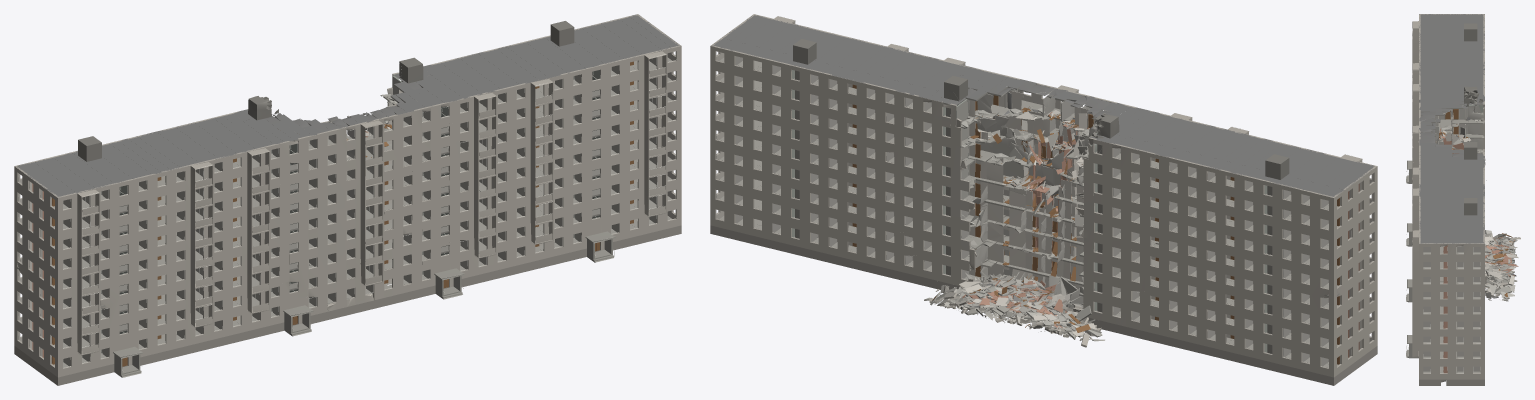
Rendered from b1_ruin_lod0.glb.
The picture shows the model from 3 angles, left to right: view 1: azimuth 30°, elevation 25°; view 2: azimuth 150°, elevation 25°; view 3: azimuth 270°, elevation 25°; orthographic projection. The views are drawn at different scales.
Parts seen in each view (by area): view 1: b1_lod0__facade_panel, b1_lod0__roof, b1_lod0__wall_room, b1_lod0__slab_top, b1_lod0__plinth, b1_lod0__monolith, b1_lod0__window_frame, b1_lod0__concrete, b1_lod0__stairwell_wall; view 2: b1_lod0__facade_panel, b1_lod0__wall_room, b1_lod0__roof, b1_lod0__slab_top, b1_lod0__plinth, b1_lod0__concrete, b1_lod0__slab_edge, b1_lod0__slab_under, b1_lod0__window_frame, b1_lod0__stairwell_wall, b1_lod0__door_wood; view 3: b1_lod0__roof, b1_lod0__facade_panel, b1_lod0__wall_room, b1_lod0__slab_top, b1_lod0__concrete, b1_lod0__monolith, b1_lod0__slab_edge, b1_lod0__slab_under, b1_lod0__plinth, b1_lod0__window_frame.
Boxes of the visible parts, x1,y1,x2,y2 form: b1_lod0__facade_panel: (14,14,681,377); b1_lod0__roof: (15,14,679,197); b1_lod0__wall_room: (19,52,675,366); b1_lod0__slab_top: (17,57,672,367); b1_lod0__plinth: (14,225,681,385); b1_lod0__monolith: (113,90,615,377); b1_lod0__window_frame: (18,52,676,373); b1_lod0__concrete: (78,21,574,161); b1_lod0__stairwell_wall: (101,70,599,352); b1_lod0__facade_panel: (710,14,1377,377); b1_lod0__wall_room: (716,52,1372,366); b1_lod0__roof: (711,15,1374,309); b1_lod0__slab_top: (719,57,1338,367); b1_lod0__plinth: (710,225,1377,385); b1_lod0__concrete: (793,39,1289,353); b1_lod0__slab_edge: (758,84,1339,340); b1_lod0__slab_under: (925,89,1102,339); b1_lod0__window_frame: (716,51,1373,367); b1_lod0__stairwell_wall: (792,70,1267,352); b1_lod0__door_wood: (852,85,1230,337); b1_lod0__roof: (1419,14,1516,298); b1_lod0__facade_panel: (1412,14,1520,379); b1_lod0__wall_room: (1418,25,1518,373); b1_lod0__slab_top: (1423,112,1516,373); b1_lod0__concrete: (1464,23,1509,240); b1_lod0__monolith: (1406,160,1418,358); b1_lod0__slab_edge: (1419,101,1517,301); b1_lod0__slab_under: (1432,105,1515,300); b1_lod0__plinth: (1419,379,1484,385); b1_lod0__window_frame: (1406,151,1501,373).
Bounding box in the file's own units: 99 × 30.96 × 20.91.
